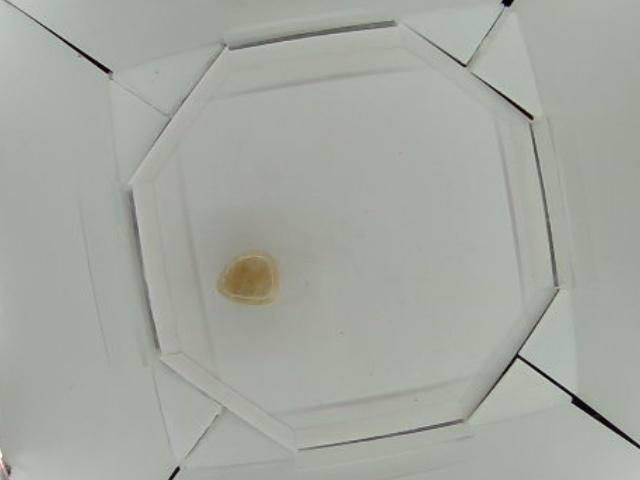Pebble: (214, 255, 275, 304)
